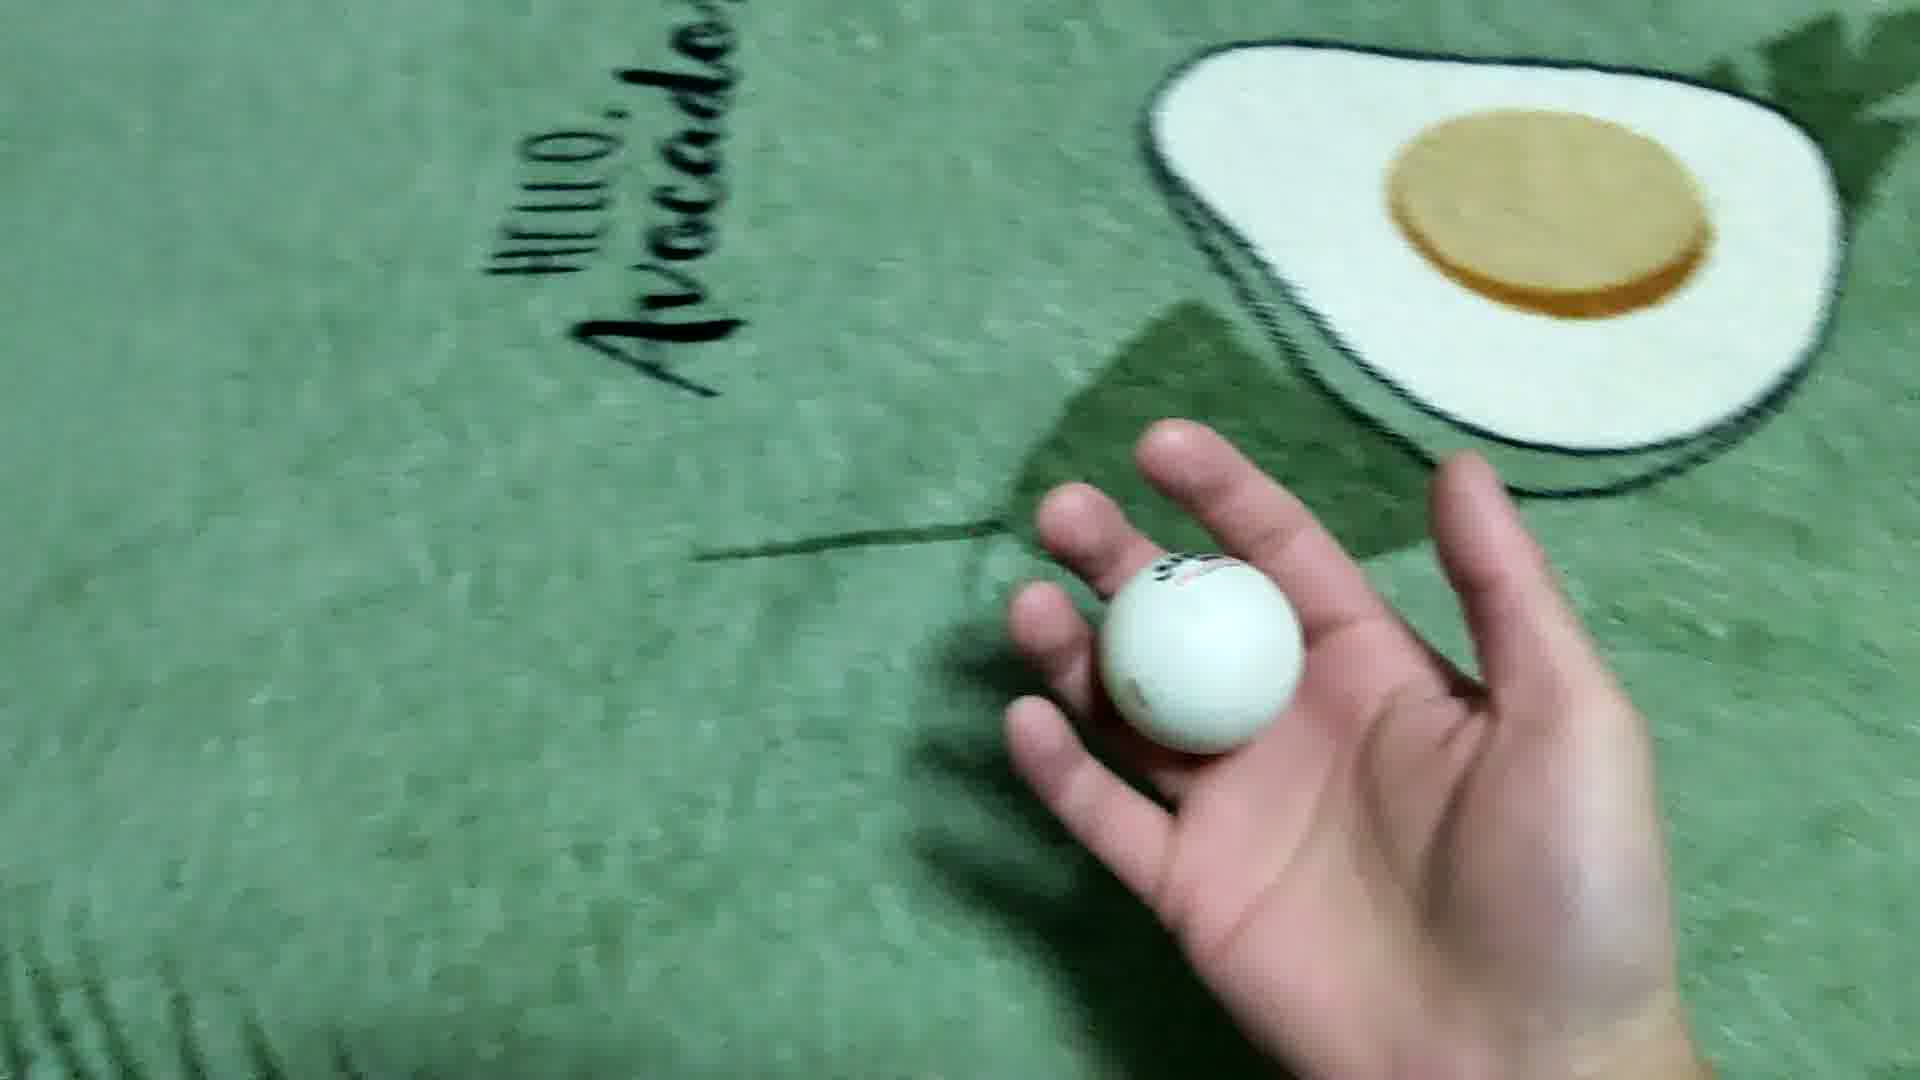Ball: (1091, 550, 1309, 753)
